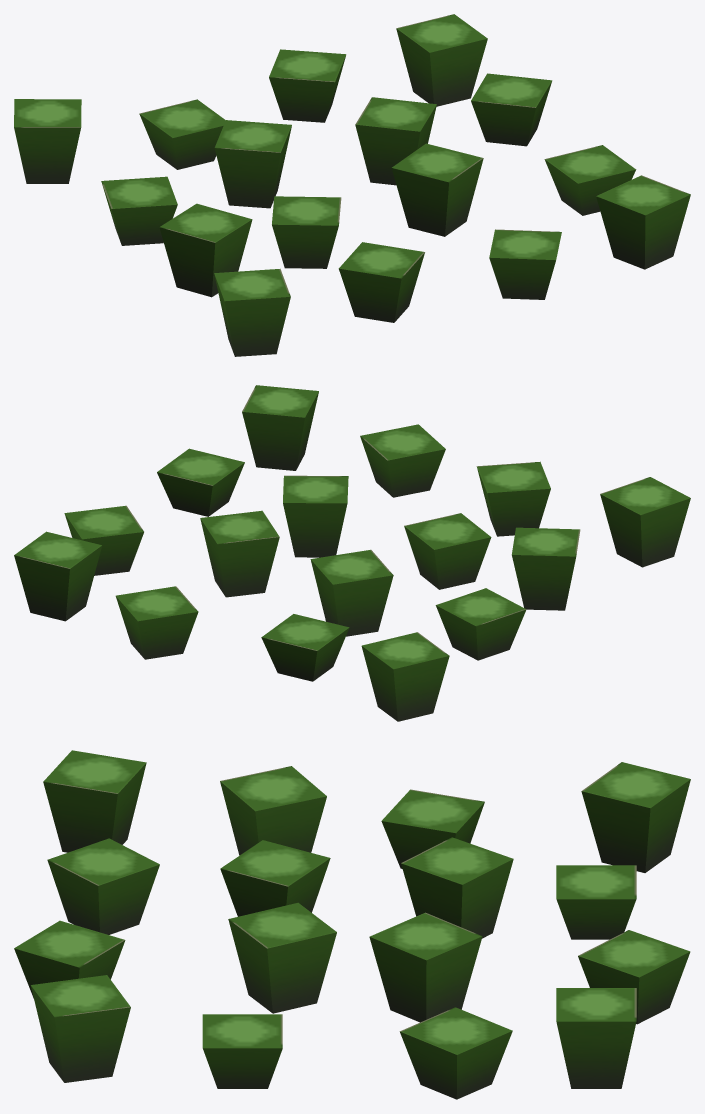
Rendered from deco_grass_cut.FBX.
3 views of the same model, one above another, from view 1: azimuth 30°, elevation 25°; view 2: azimuth 150°, elevation 25°; view 3: azimuth 270°, elevation 25° (orthographic). The views are drawn at different scales.
Parts seen in each view (by area): view 1: deco_grass_cut; view 2: deco_grass_cut; view 3: deco_grass_cut.
Part boxes in pixels (x1,y1,x2,y2): deco_grass_cut: (14, 14, 690, 356); deco_grass_cut: (14, 385, 690, 721); deco_grass_cut: (14, 750, 690, 1099).
Size of the model in its own units: 1.9 by 0.2295 by 1.91.
Materials: 1 (1 with a texture image).
